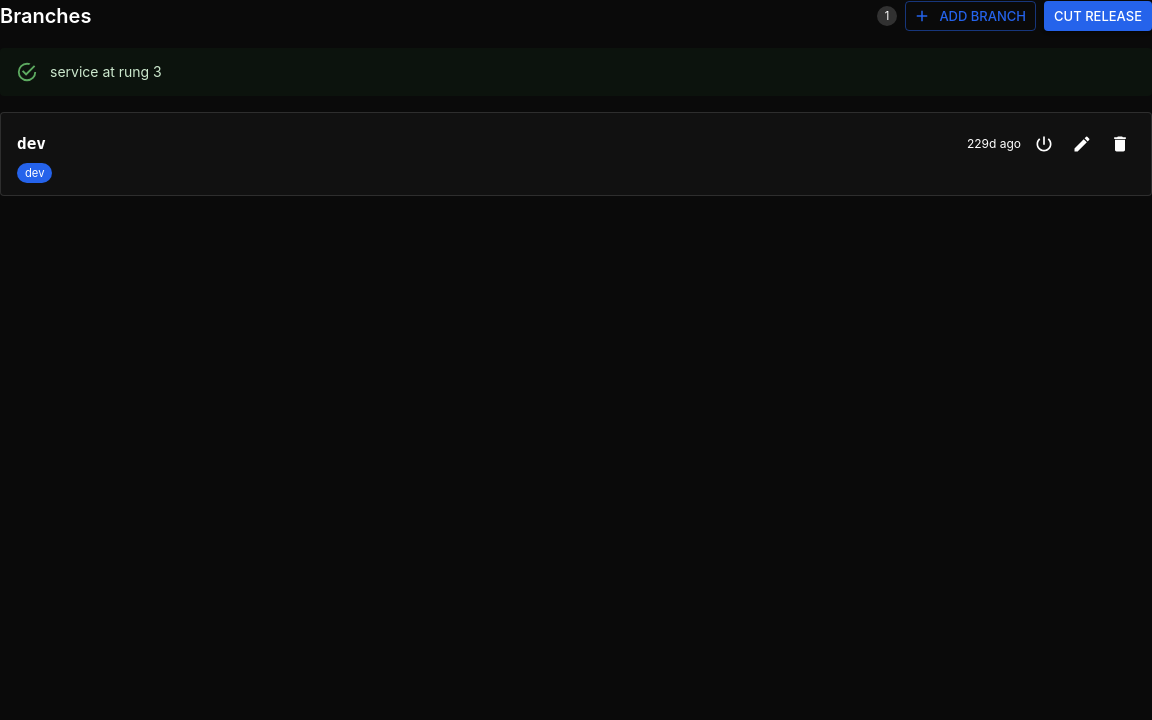
Test: EditBranchDialog (TK-1685) › server error displays inline
The width and height of the screenshot is (1152, 720).
What coordinates should you click on to do the following:
click the button with test id "branch-edit-dev"
I would click on:
 (1082, 144)
Its box is top-left (1067, 129), bottom-right (1097, 159).
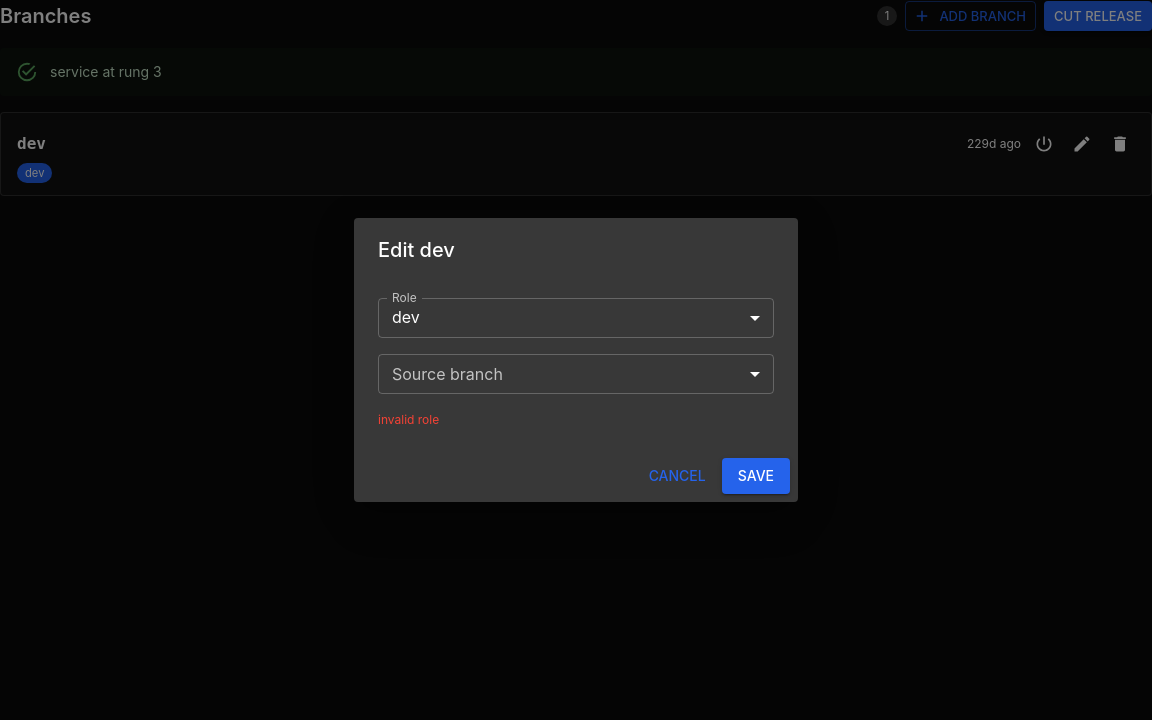
expect the text with test id "edit-branch-error" reads "invalid role": met, box top-left (378, 412), bottom-right (439, 427)
